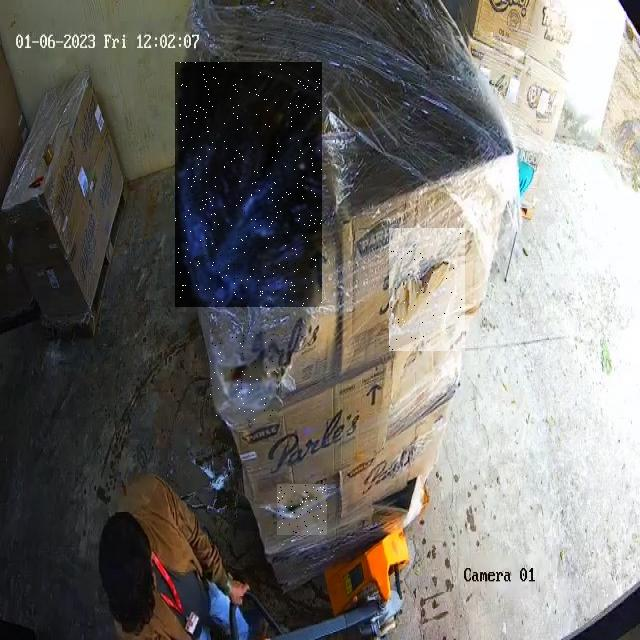leakage: (390, 229, 463, 351), (211, 335, 275, 420), (277, 484, 327, 534)
squeeze: (175, 63, 322, 306)
